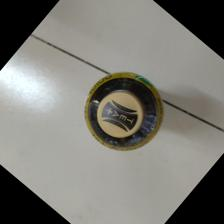Olong: (84, 70, 166, 153)
